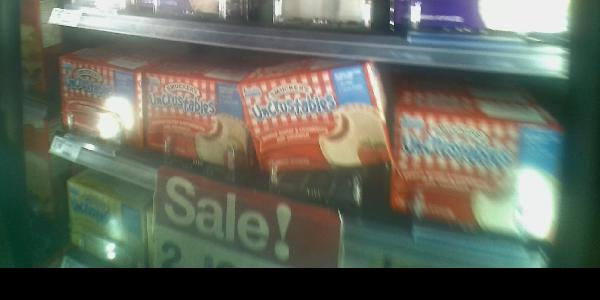icecream: (389, 93, 558, 244), (239, 59, 395, 177), (145, 70, 259, 174), (55, 52, 143, 150)
